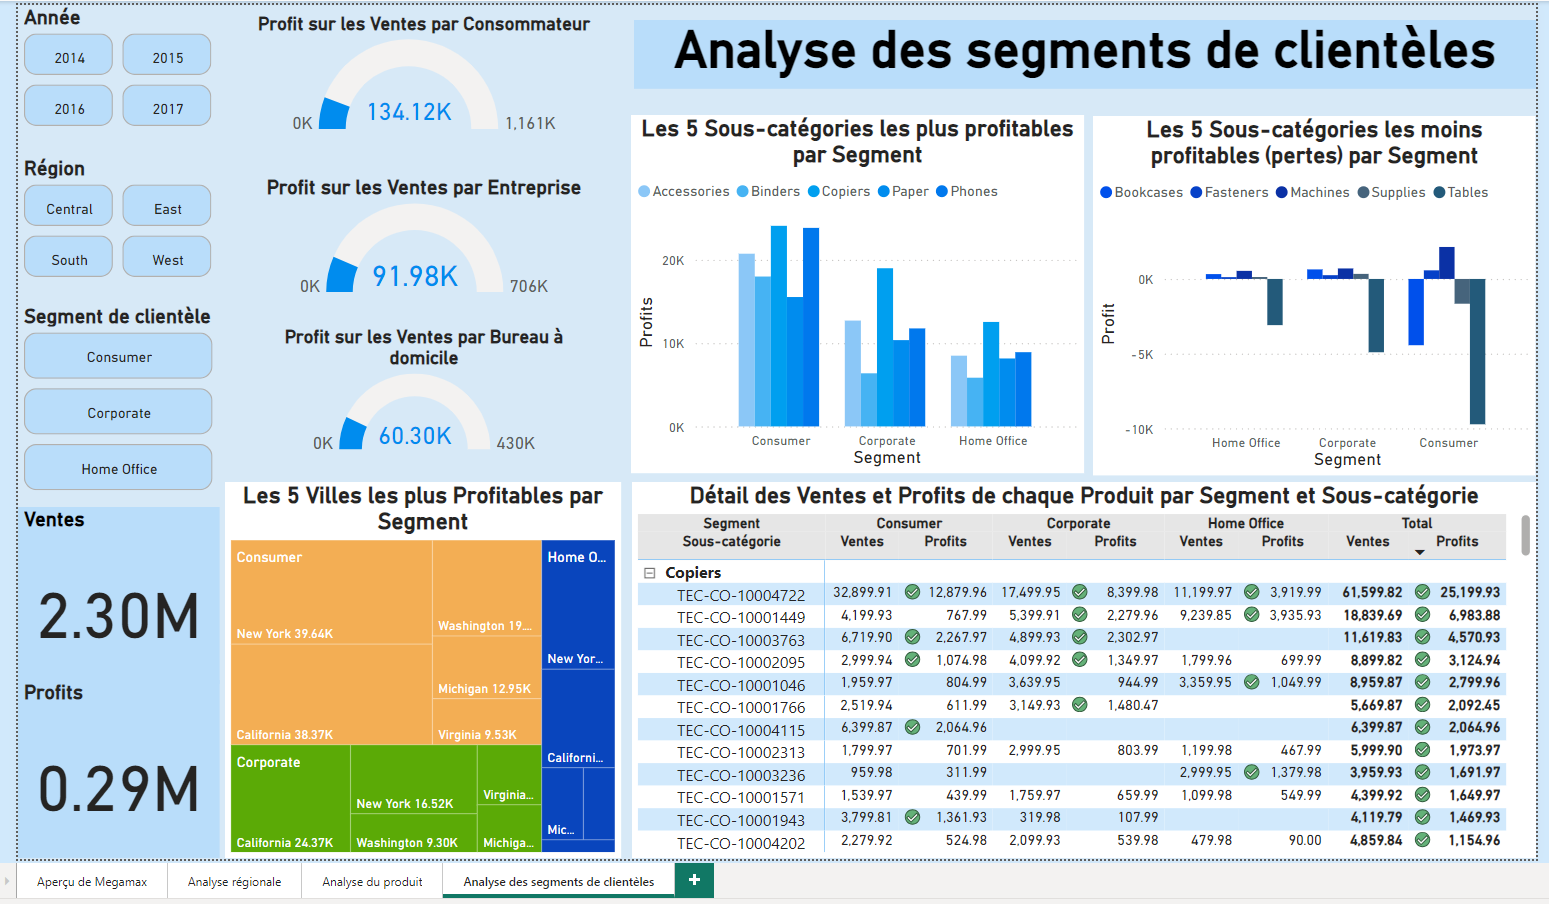

This screenshot's page, from the dashboard's own definition file:
{"tool":"powerbi","page":{"name":" Analyse des segments de clientèles","canvas":[1280,720],"ordinal":3},"visuals":[{"type":"textbox","title":" Analyse des segments de clientèles","box":[519.2,12.9,760.8,57.8],"z":0},{"type":"card","title":"Ventes","fields":{"Values":["Sum(Sample - MegaMax.Sales)"]},"box":[0,423.5,169.9,149.2],"z":1000},{"type":"card","title":"Profits","fields":{"Values":["Sum(Sample - MegaMax.Profit)"]},"box":[0,569.3,169.9,150.1],"z":2000},{"type":"advancedSlicerVisual","title":"Année","fields":{"Values":["Sample - MegaMax.Order Date.Variation.Date Hierarchy.Year"]},"box":[0,0,169.9,108.7],"z":3000},{"type":"gauge","title":"Profit sur les Ventes par Consommateur","fields":{"MaxValue":["Sum(Sample - MegaMax.Sales)"],"Y":["Sum(Sample - MegaMax.Profit)"]},"box":[191.5,6,301.9,108.7],"z":4000},{"type":"advancedSlicerVisual","title":"Segment de clientèle","fields":{"Values":["Sample - MegaMax.Segment"]},"box":[0,251.9,169.9,162.2],"z":5000},{"type":"treemap","title":"Les 5 Villes les plus Profitables par Segment","fields":{"Group":["Sample - MegaMax.Segment"],"Details":["Sample - MegaMax.State"],"Values":["Sum(Sample - MegaMax.Profit)"]},"box":[174.4,402.3,333.7,317.4],"z":6000},{"type":"advancedSlicerVisual","title":"Région","fields":{"Values":["Sample - MegaMax.Region"]},"box":[0,127.7,169.9,108.7],"z":7000},{"type":"pivotTable","title":"Détail des Ventes et Profits de chaque Produit par Segment et Sous-catégorie","fields":{"Values":["Sum(Sample - MegaMax.Sales)","Sum(Sample - MegaMax.Profit)"],"Columns":["Sample - MegaMax.Segment"],"Rows":["Sample - MegaMax.Sub-Category","Sample - MegaMax.Product ID"]},"box":[517.4,402.3,762.8,317.4],"z":8000},{"type":"gauge","title":"Profit sur les Ventes par Entreprise","fields":{"MaxValue":["Sum(Sample - MegaMax.Sales)"],"Y":["Sum(Sample - MegaMax.Profit)"]},"box":[191.5,143.2,301.9,108.7],"z":9000},{"type":"gauge","title":"Profit sur les Ventes par Bureau à domicile","fields":{"MaxValue":["Sum(Sample - MegaMax.Sales)"],"Y":["Sum(Sample - MegaMax.Profit)"]},"box":[191.5,270,301.9,114.7],"z":10000},{"type":"lineClusteredColumnComboChart","title":"Les 5 Sous-catégories les plus profitables par Segment ","fields":{"Category":["Sample - MegaMax.Segment"],"Series":["Sample - MegaMax.Sub-Category"],"Y":["Sum(Sample - MegaMax.Profit)"]},"box":[516.7,93.2,382.1,301.9],"z":12000},{"type":"lineClusteredColumnComboChart","title":"Les 5 Sous-catégories les moins  profitables (pertes) par Segment ","fields":{"Category":["Sample - MegaMax.Segment"],"Series":["Sample - MegaMax.Sub-Category"],"Y":["Sum(Sample - MegaMax.Profit)"]},"box":[906.3,93.6,373.5,302.7],"z":13000}]}

Visuals, with their boxes on the page's 1280x720 design canvas (x1, y1, x2, y2). These are canvas units, not pixel positions in the 1549x904 screenshot, which may show the page scaled, cropped or inside an application window:
" Analyse des segments de clientèles" textbox: crop(519, 13, 1280, 71)
"Ventes" card: crop(0, 424, 170, 573)
"Profits" card: crop(0, 569, 170, 719)
"Année" advancedSlicerVisual: crop(0, 0, 170, 109)
"Profit sur les Ventes par Consommateur" gauge: crop(192, 6, 493, 115)
"Segment de clientèle" advancedSlicerVisual: crop(0, 252, 170, 414)
"Les 5 Villes les plus Profitables par Segment" treemap: crop(174, 402, 508, 720)
"Région" advancedSlicerVisual: crop(0, 128, 170, 236)
"Détail des Ventes et Profits de chaque Produit par Segment et Sous-catégorie" pivotTable: crop(517, 402, 1280, 720)
"Profit sur les Ventes par Entreprise" gauge: crop(192, 143, 493, 252)
"Profit sur les Ventes par Bureau à domicile" gauge: crop(192, 270, 493, 385)
"Les 5 Sous-catégories les plus profitables par Segment " lineClusteredColumnComboChart: crop(517, 93, 899, 395)
"Les 5 Sous-catégories les moins  profitables (pertes) par Segment " lineClusteredColumnComboChart: crop(906, 94, 1280, 396)
